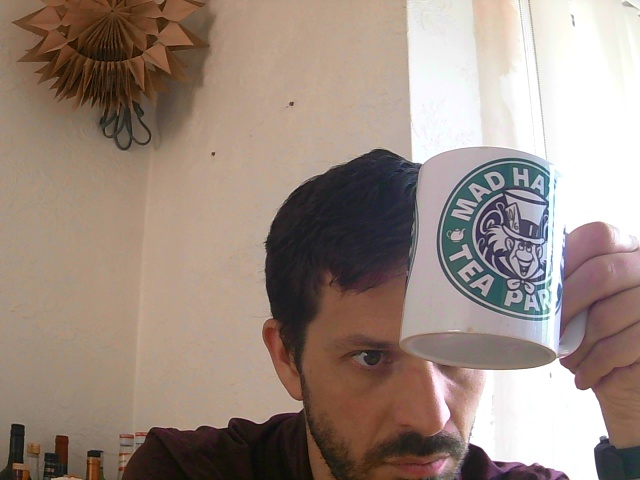mug: (400, 142, 567, 373)
